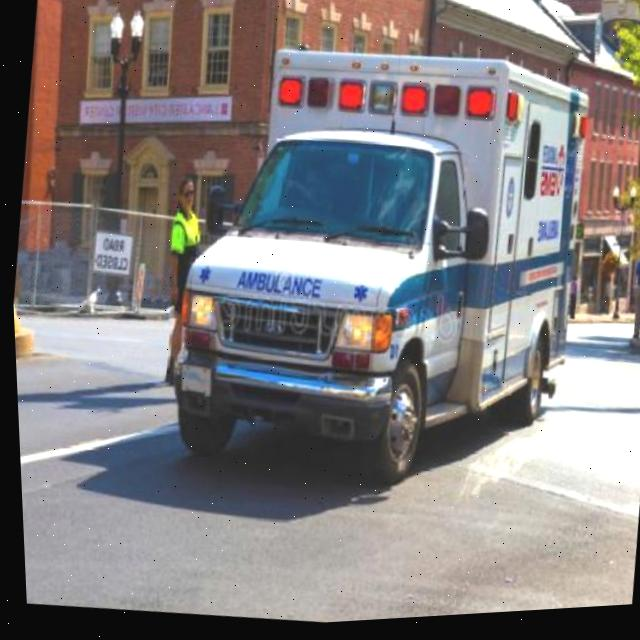emergency: (143, 21, 612, 520)
